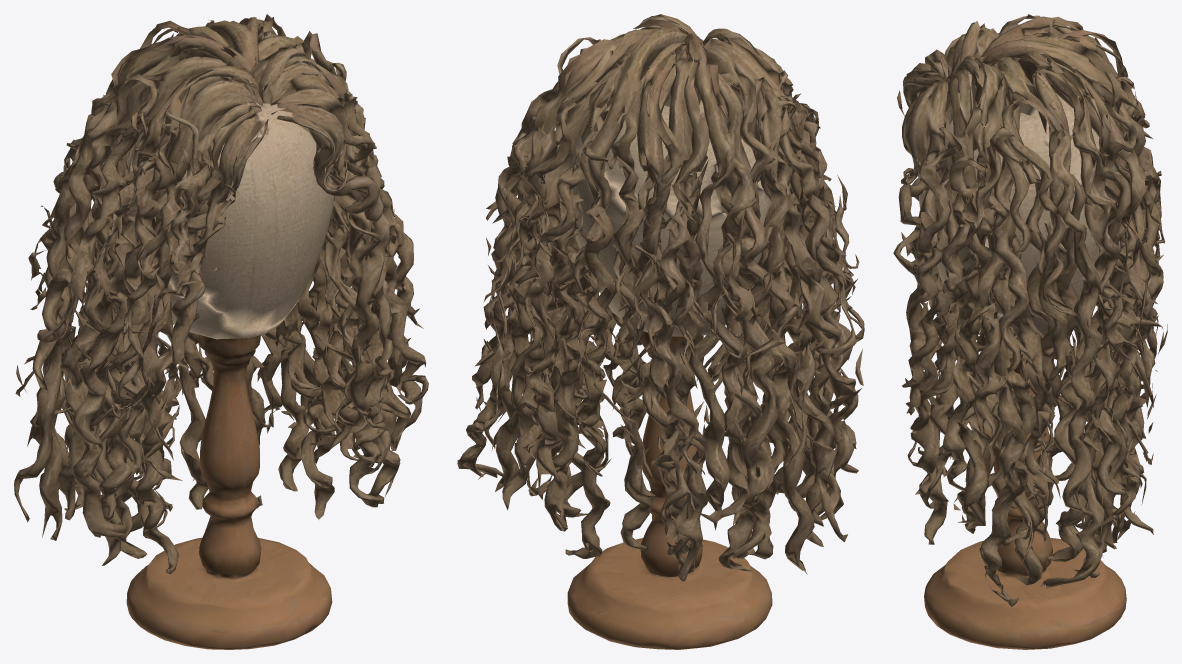
Rendered from peruecke.glb.
3 renders of one model, left to right at view 1: azimuth 30°, elevation 25°; view 2: azimuth 150°, elevation 25°; view 3: azimuth 270°, elevation 25°, orthographic.
Visible parts, largest first — view 1: geometry_0; view 2: geometry_0; view 3: geometry_0.
Boxes of the visible parts, x1=… form: geometry_0: x1=14, y1=14, x2=428, y2=649; geometry_0: x1=457, y1=14, x2=864, y2=649; geometry_0: x1=893, y1=14, x2=1167, y2=649.
Bounding box in the file's own units: 0.6867 × 1 × 0.4331.
Materials: 1 (1 with a texture image).
